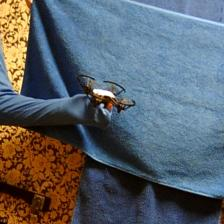drone: (77, 74, 137, 114)
